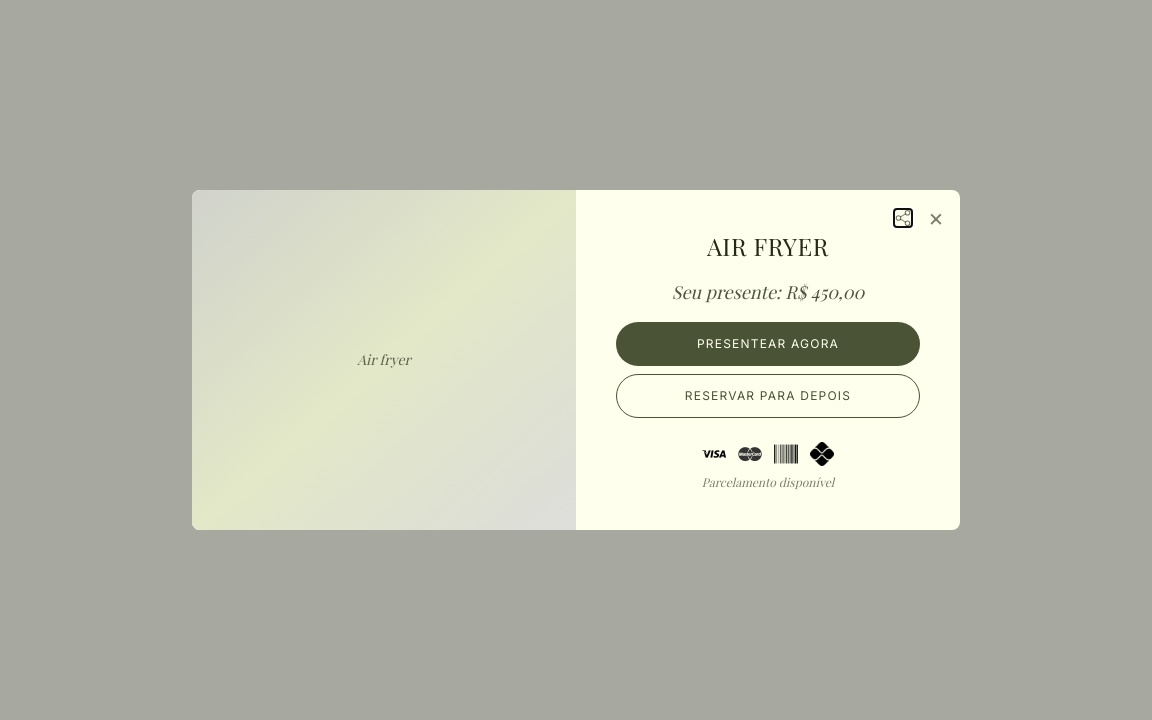
Test: GiftDetailsModal › reveals the immediate-checkout form when 'Presentear agora' is clicked, hiding the payment icons
This screenshot has width=1152, height=720.
Click the button "Presentear agora". click: (768, 344)
box: [616, 322, 920, 366]
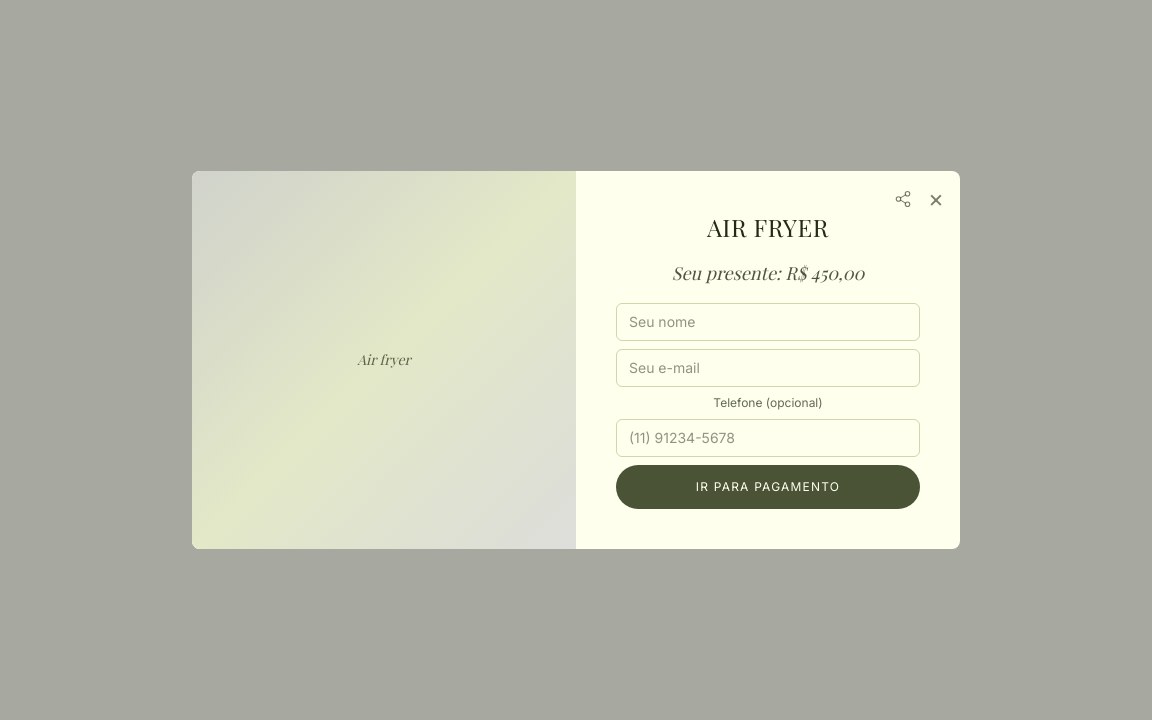
Now the field labelled "Seu nome" is shown, box [616, 303, 920, 341]
Now the field labelled "Seu e-mail" is shown, box [616, 349, 920, 387]
Now the picture with alt text "Visa" is gone
